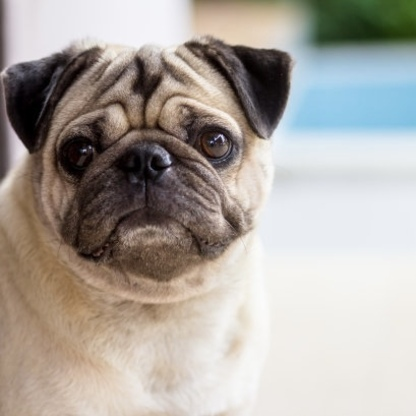Pug: (1, 29, 298, 416)
